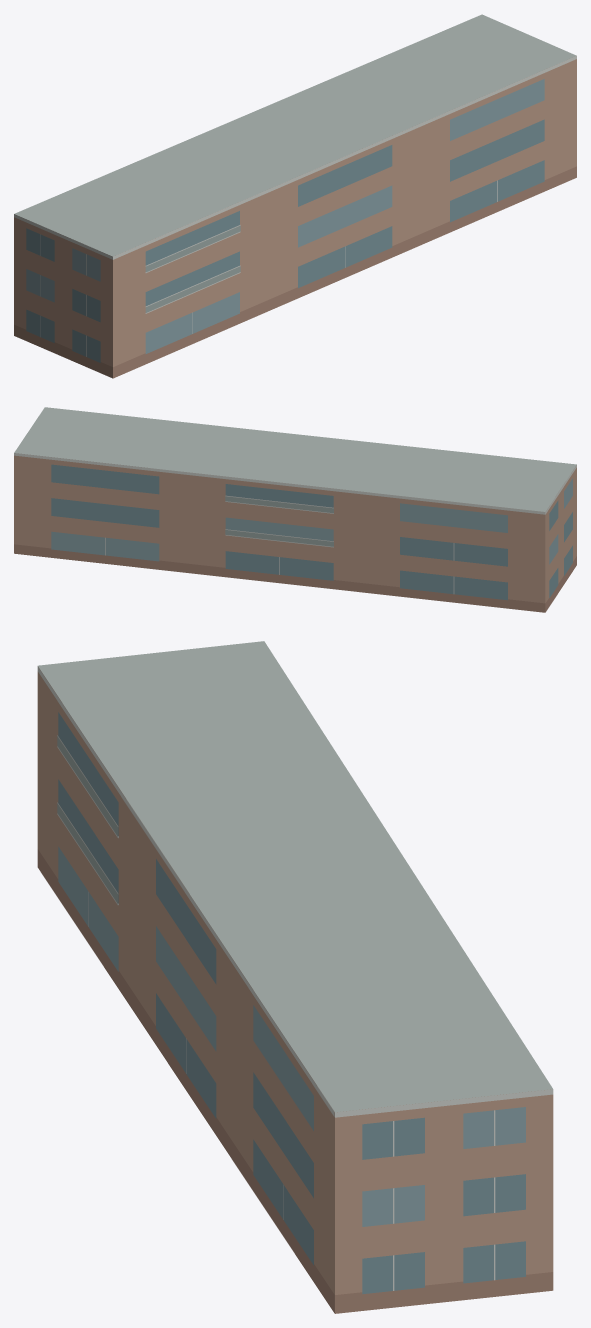
Rendered from survey-upis-32967292.glb.
The picture shows the model from 3 angles, top to bottom: view 1: azimuth 30°, elevation 25°; view 2: azimuth 150°, elevation 25°; view 3: azimuth 270°, elevation 25°; orthographic projection. The views are drawn at different scales.
Parts seen in each view (by area): view 1: survey-upis-32967292.tmp; view 2: survey-upis-32967292.tmp; view 3: survey-upis-32967292.tmp.
Part boxes in pixels (x1,y1,x2,y2): survey-upis-32967292.tmp: (14, 14, 576, 378); survey-upis-32967292.tmp: (14, 407, 576, 612); survey-upis-32967292.tmp: (37, 641, 553, 1313).
Size of the model in its own units: 45.91 by 9.15 by 21.24.
